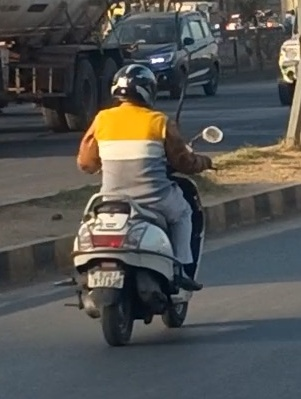BikeWithRider: (48, 58, 228, 350)
Helmet: (104, 58, 163, 113)
